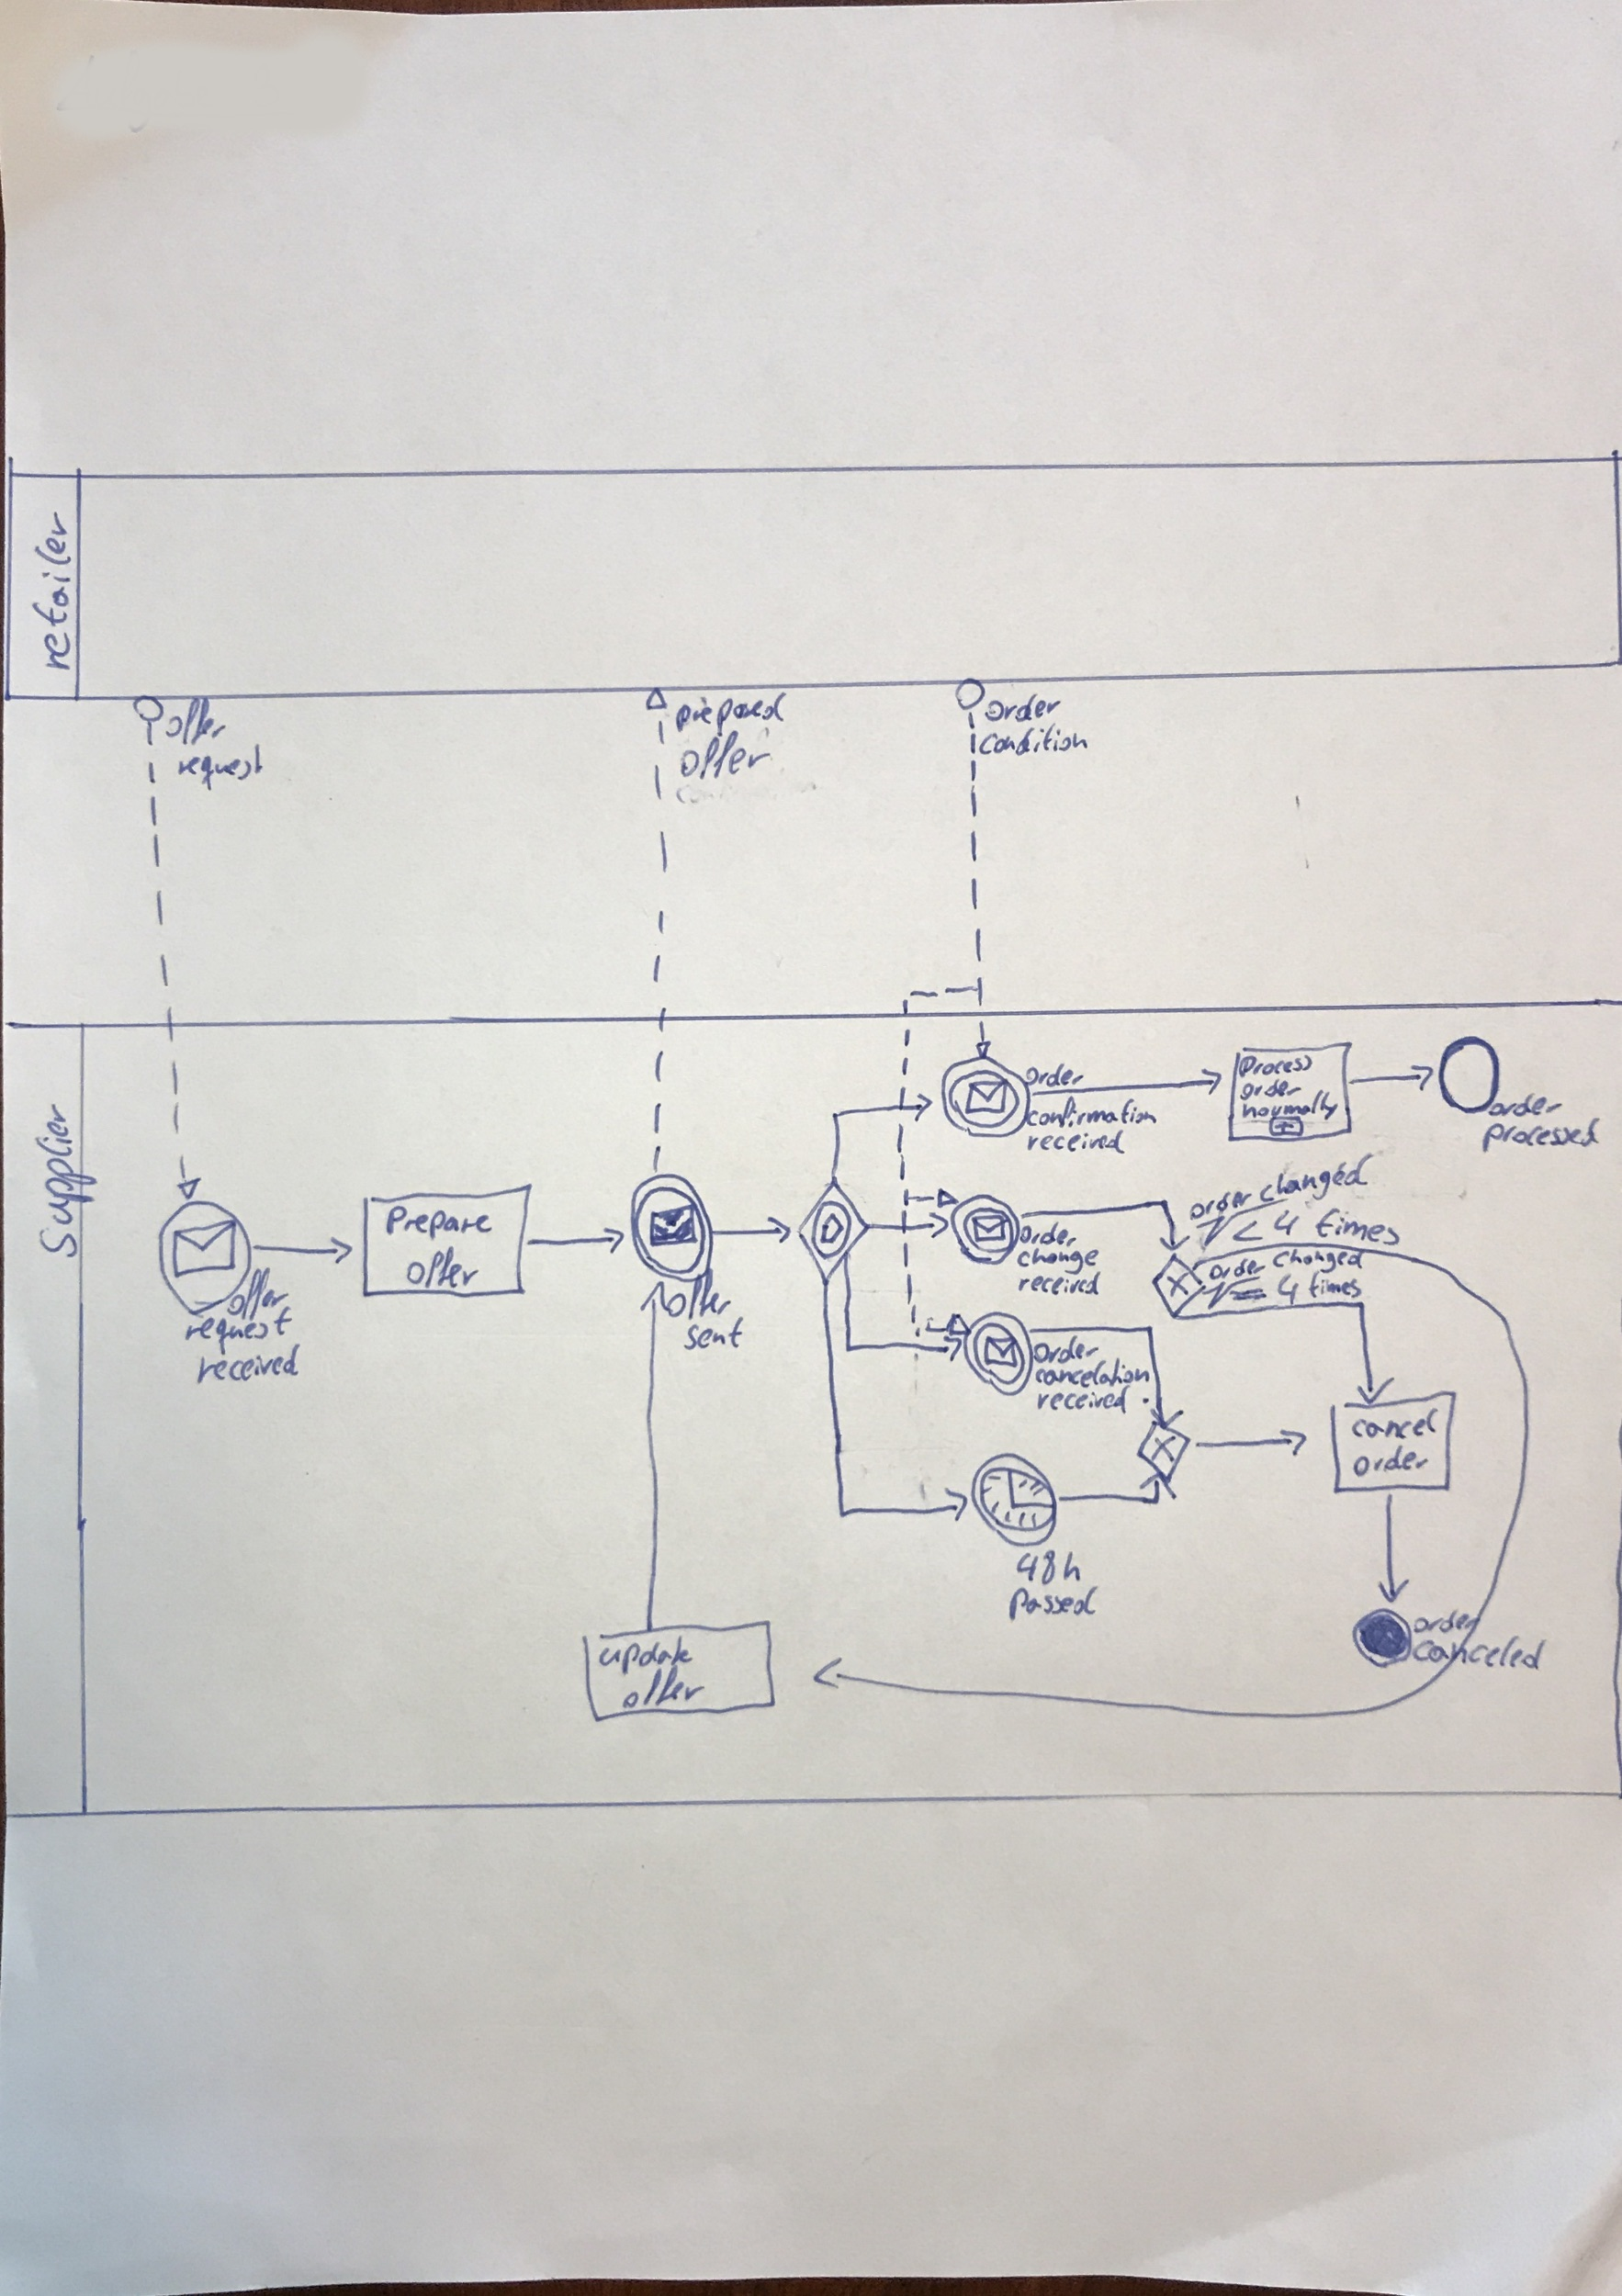48h: (1015, 1548, 1092, 1585)
<4: (1234, 1204, 1308, 1239)
=4: (1227, 1276, 1301, 1313)
Order: (985, 693, 1060, 720)
Prepare: (379, 1197, 499, 1253)
Process: (1234, 1046, 1320, 1081)
Supplier: (28, 1106, 95, 1262)
cancel: (1346, 1408, 1438, 1448)
cancelation: (1050, 1360, 1138, 1394)
canceled: (1413, 1634, 1545, 1666)
change: (1022, 1243, 1097, 1280)
changed: (1260, 1152, 1371, 1201), (1271, 1245, 1367, 1269)
condition: (974, 725, 1097, 751)
confirmation: (1036, 1102, 1143, 1132)
normally: (1241, 1095, 1338, 1120)
offer: (154, 688, 230, 750), (671, 737, 769, 781), (398, 1250, 481, 1294), (664, 1278, 739, 1324), (620, 1675, 702, 1708), (233, 1273, 284, 1313)
order: (1180, 1181, 1257, 1225), (1022, 1336, 1106, 1369), (1410, 1606, 1480, 1645), (1485, 1090, 1566, 1120), (1355, 1445, 1427, 1478), (1013, 1062, 1095, 1090), (1201, 1252, 1266, 1278), (1020, 1218, 1078, 1245), (1234, 1085, 1304, 1097)
passed: (1008, 1587, 1101, 1624)
prepared: (667, 686, 799, 727)
processed: (1476, 1115, 1608, 1155)
received: (190, 1350, 309, 1385), (1023, 1125, 1130, 1159), (1015, 1271, 1106, 1302), (1030, 1388, 1129, 1417)
request: (181, 1309, 291, 1348), (172, 744, 272, 785)
retailer: (26, 511, 74, 672)
sent: (667, 1322, 755, 1352)
times: (1320, 1211, 1392, 1250), (1301, 1274, 1367, 1304)
update: (593, 1638, 681, 1668)
